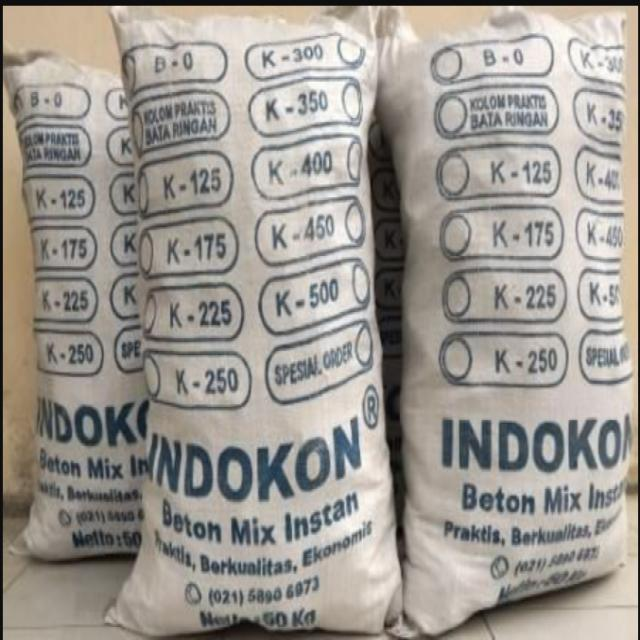KantongSemen: (103, 4, 402, 638), (376, 18, 640, 629), (5, 45, 182, 566)
